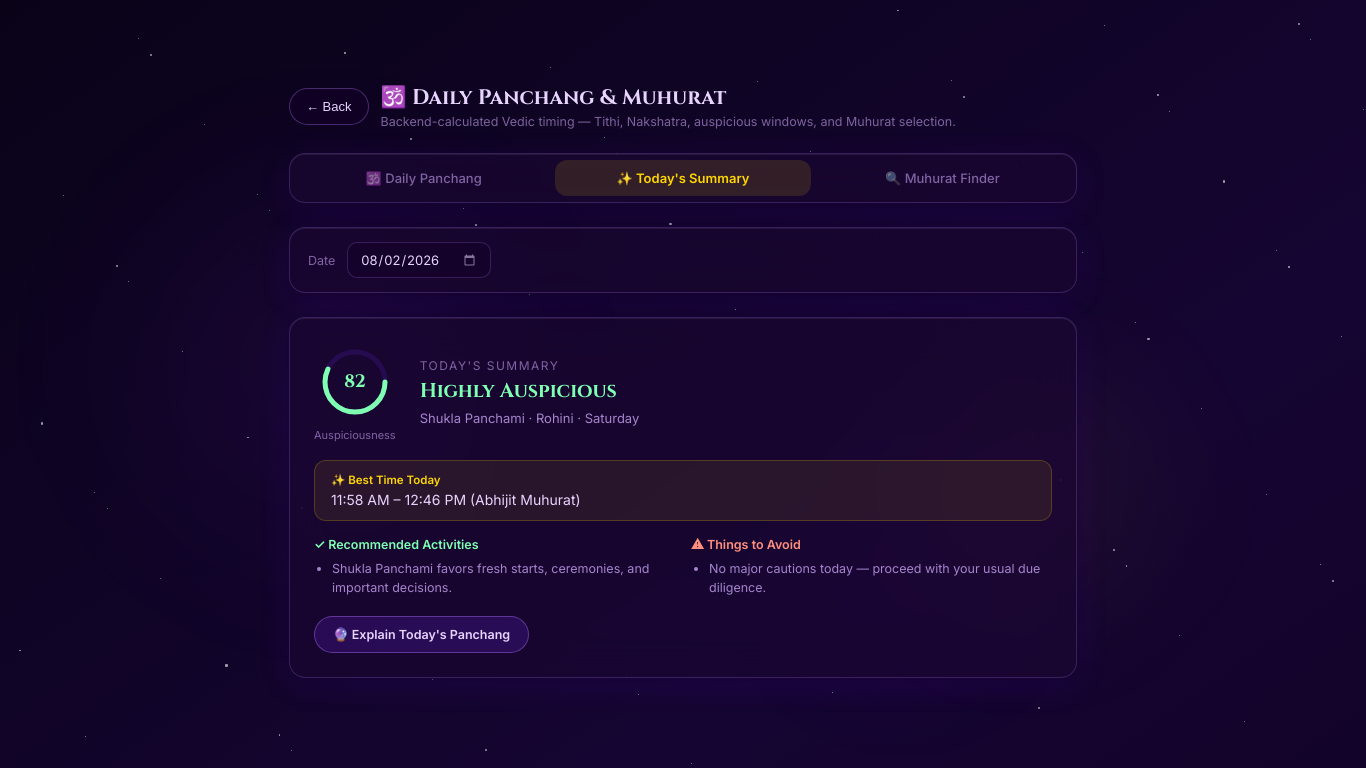
PanchangPage › finds and displays a Muhurat recommendation on the Muhurat Finder tab
The width and height of the screenshot is (1366, 768).
Expected: the text "Highly Auspicious" is shown, [420,377,617,404]
What coordinates should you click on to do the following:
click the button "🔍 Muhurat Finder"
I would click on:
 (942, 178)
Its box is [815,160,1070,196].
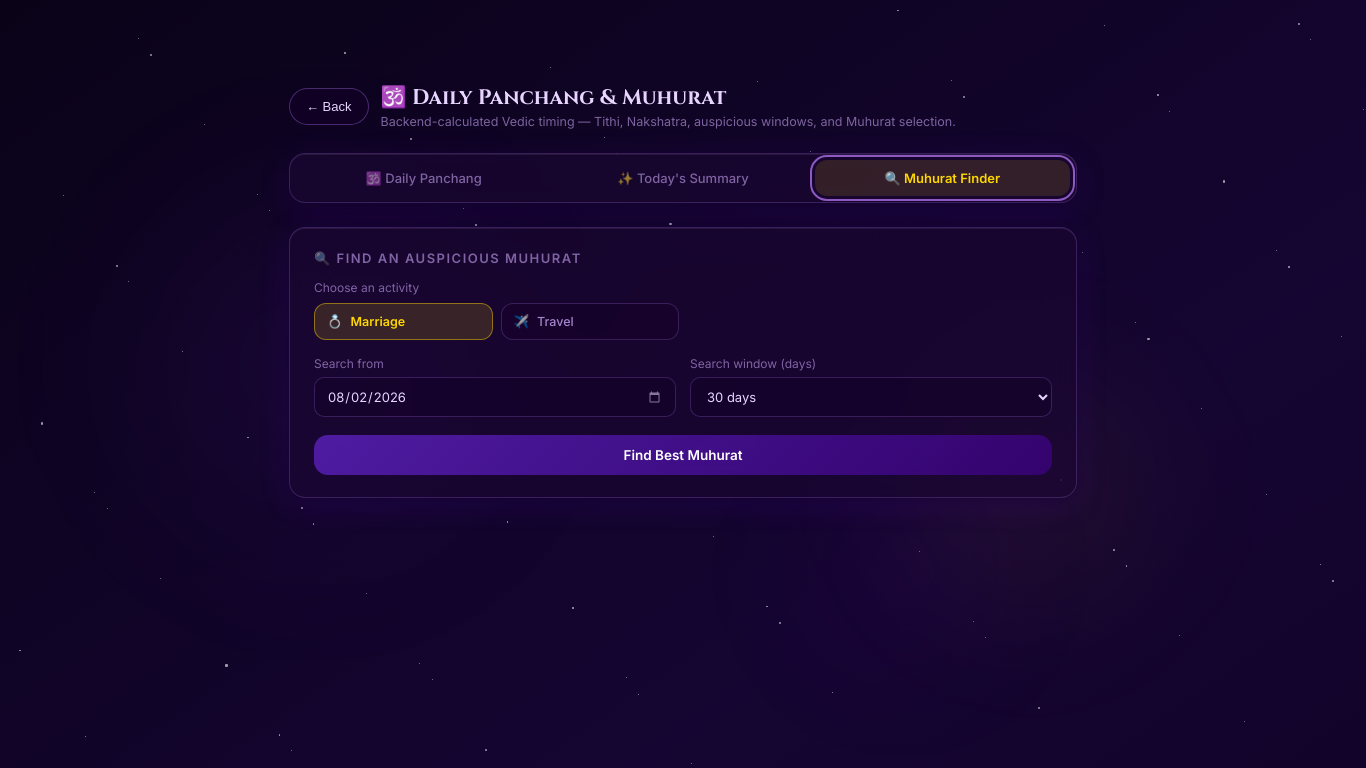
Expected: the button "💍 Marriage" is shown, [314,303,492,340]
What coordinates should you click on to do the following:
click the button "Find Best Muhurat"
I would click on:
 (683, 455)
Its box is [314,435,1052,475].
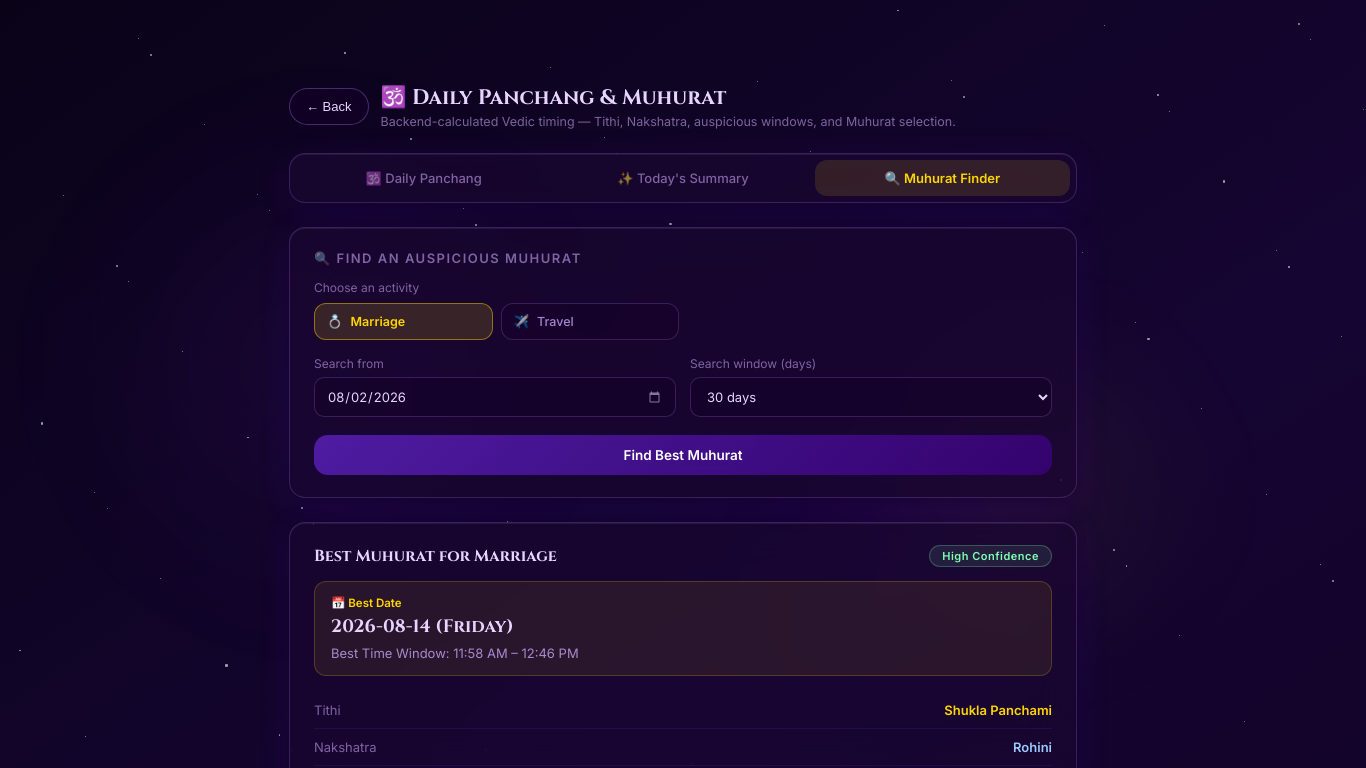
Expected: the text "2026-08-14 (Friday)" is shown, [331,614,514,639]
Expected: the text "High Confidence" is shown, [929,545,1052,567]
